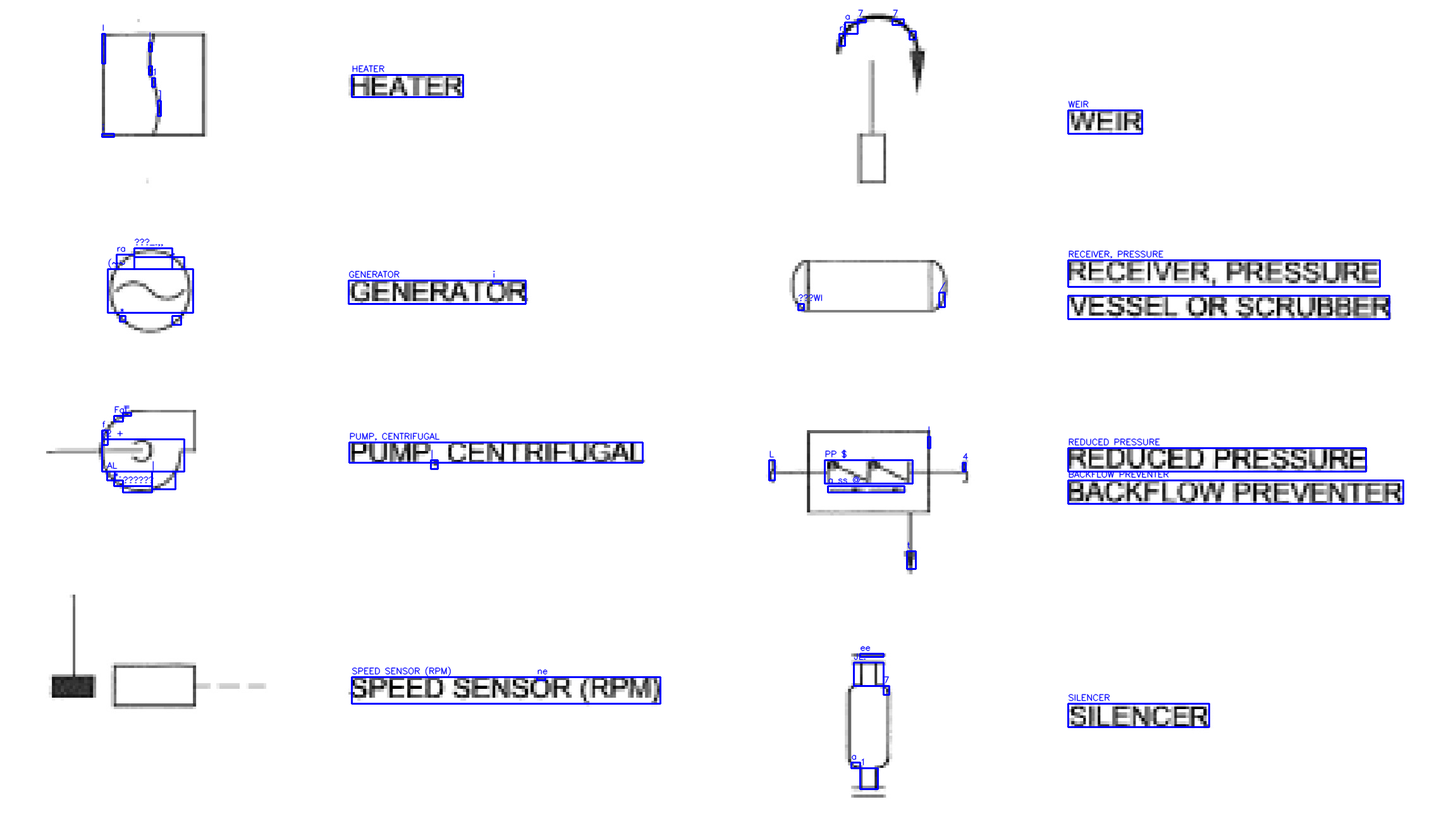Bomba: (30, 396, 207, 499)
Forno: (98, 34, 206, 139)
Instrumento: (37, 572, 271, 719)
Outro: (750, 420, 988, 578), (817, 3, 930, 197), (828, 634, 911, 805)
SistemadePotência: (98, 236, 201, 338)
Vaso: (783, 259, 958, 318)
